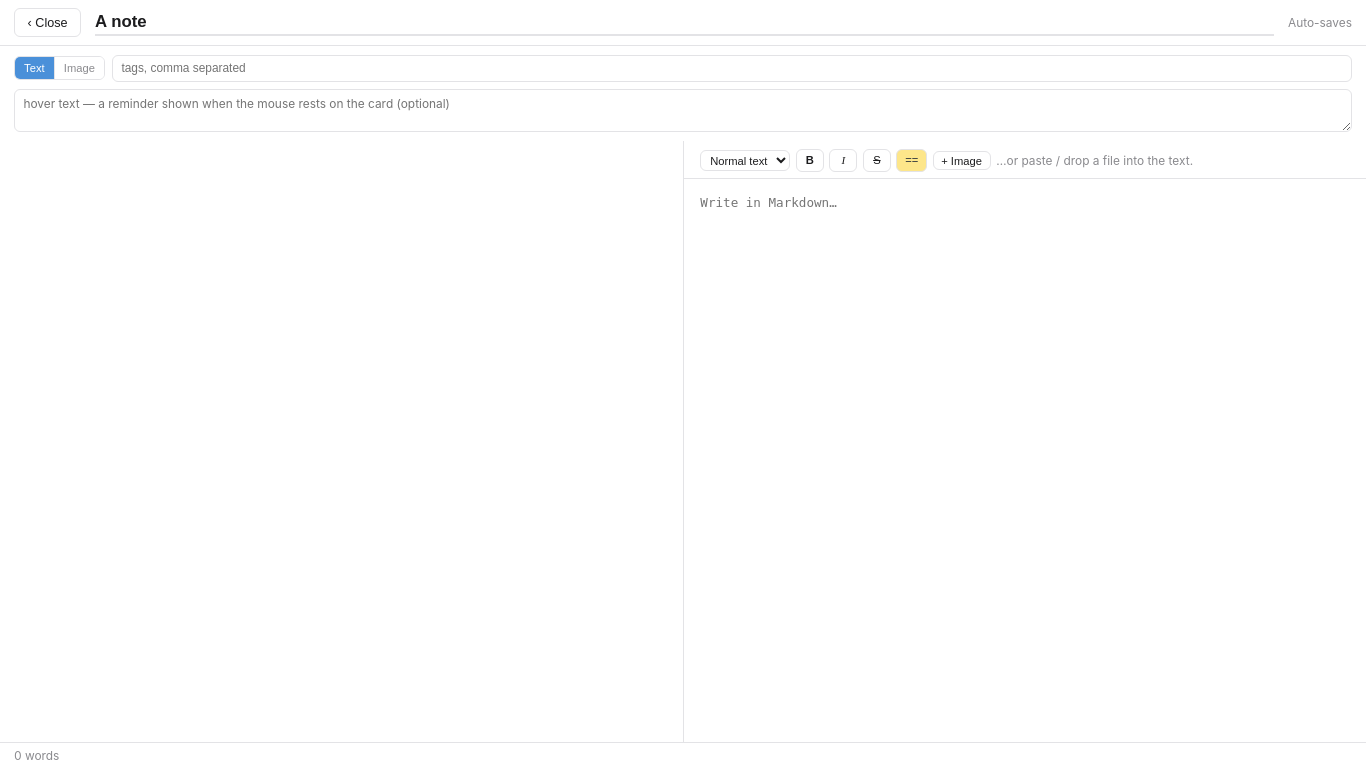
Test: inserting an asset › inserts an image embed with a project-relative path
The width and height of the screenshot is (1366, 768).
Expected: the text box with placeholder "Write in Markdown…" is empty, top-left (684, 179), bottom-right (1365, 742)
Click the button "+ Image".
click(962, 161)  # box top-left (932, 151), bottom-right (991, 170)
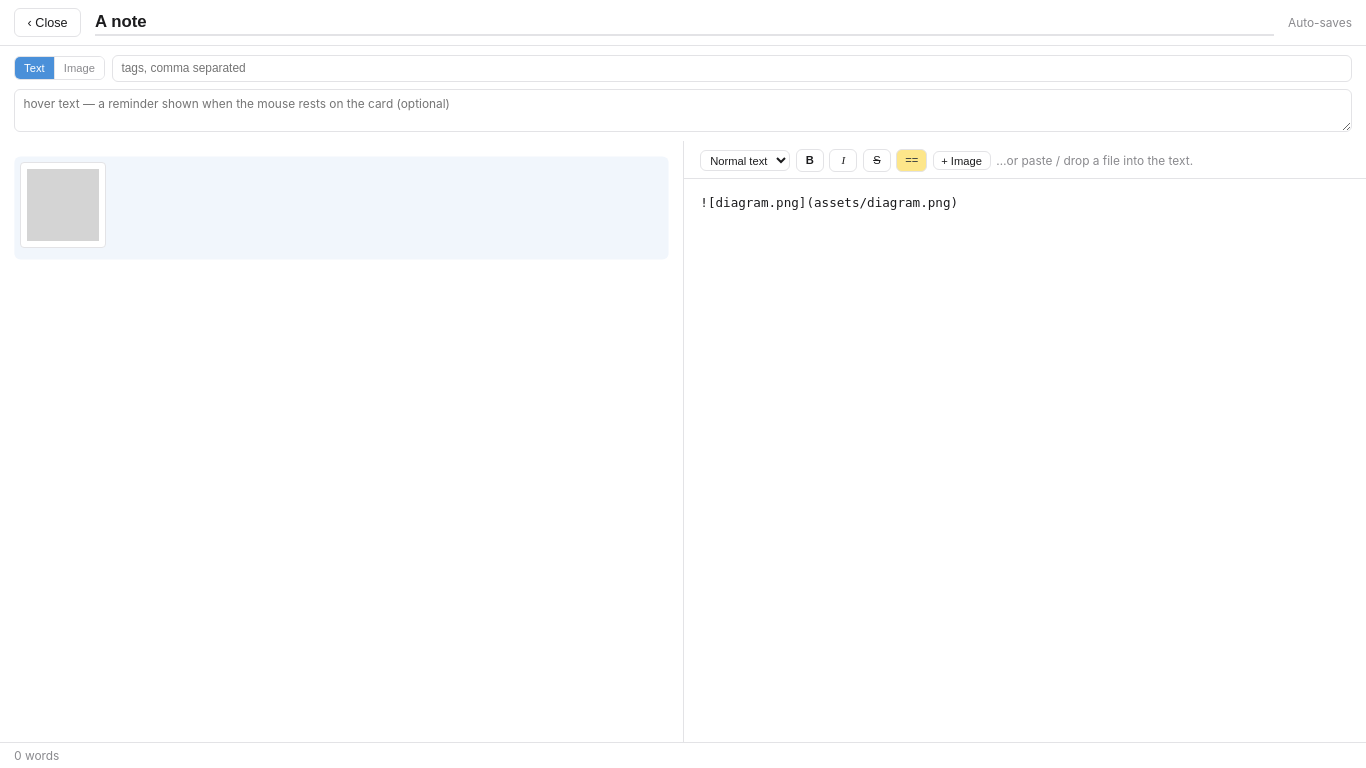
Expected: the text box with placeholder "Write in Markdown…" holds "![diagram.png](assets/diagram.png)", top-left (684, 179), bottom-right (1365, 742)
